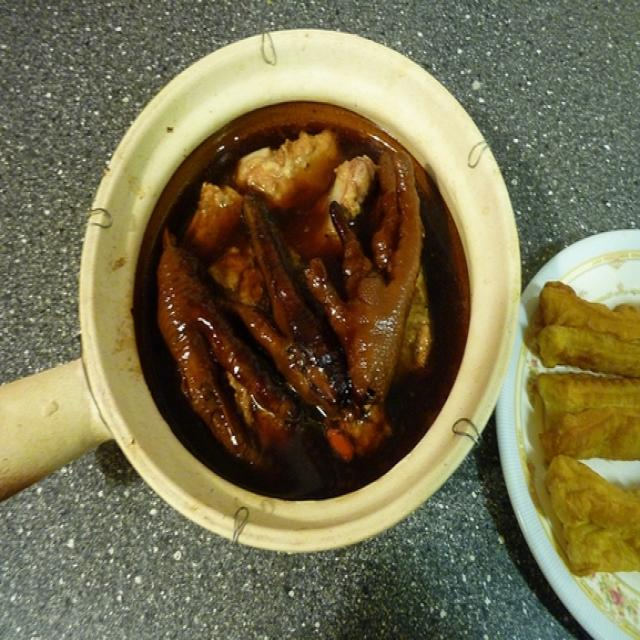汤锅炖物: (81, 40, 514, 535)
